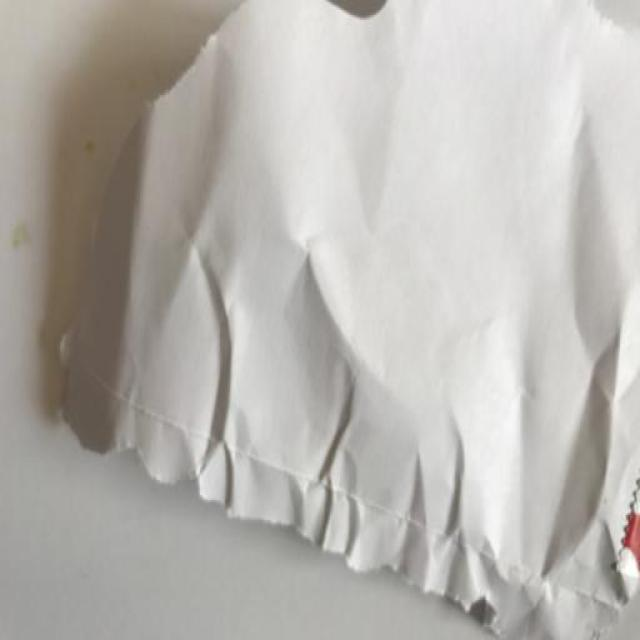paper: (43, 0, 637, 640)
